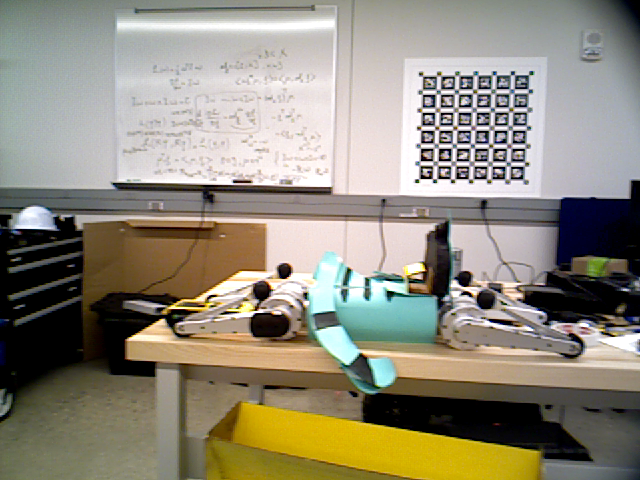painting4: (399, 55, 547, 195)
